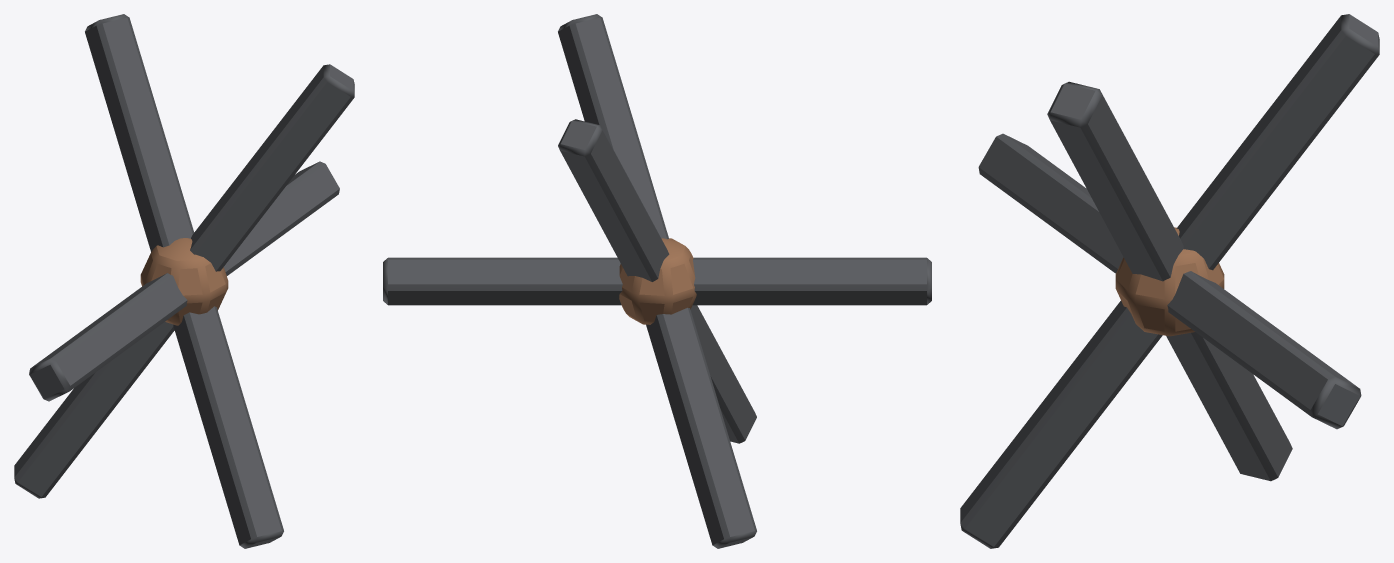
Rendered from prop_hedgehog.glb.
3 renders of one model, left to right at view 1: azimuth 30°, elevation 25°; view 2: azimuth 150°, elevation 25°; view 3: azimuth 270°, elevation 25°, orthographic. The views are drawn at different scales.
Visible parts, largest first — view 1: Hedgehog; view 2: Hedgehog; view 3: Hedgehog.
Part boxes in pixels (x1,y1,x2,y2): Hedgehog: [14, 14, 354, 548]; Hedgehog: [383, 14, 931, 548]; Hedgehog: [960, 14, 1379, 548].
Bounding box in the file's own units: 2.08 × 1.95 × 1.43.
